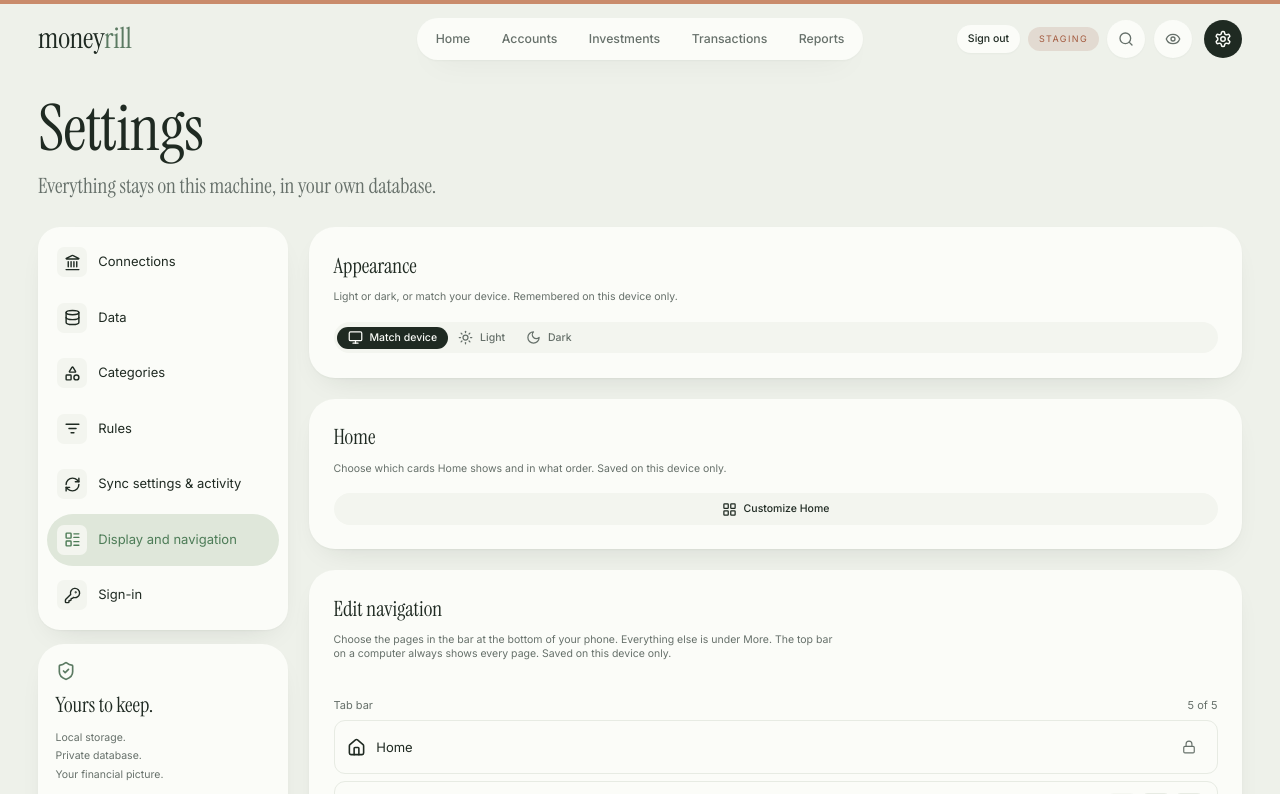
Test: Customize Home › lists every module with a switch; Spending and Accounts start off
The width and height of the screenshot is (1280, 794).
Click the button "Customize Home" at point(776, 509), box [334, 493, 1218, 525]
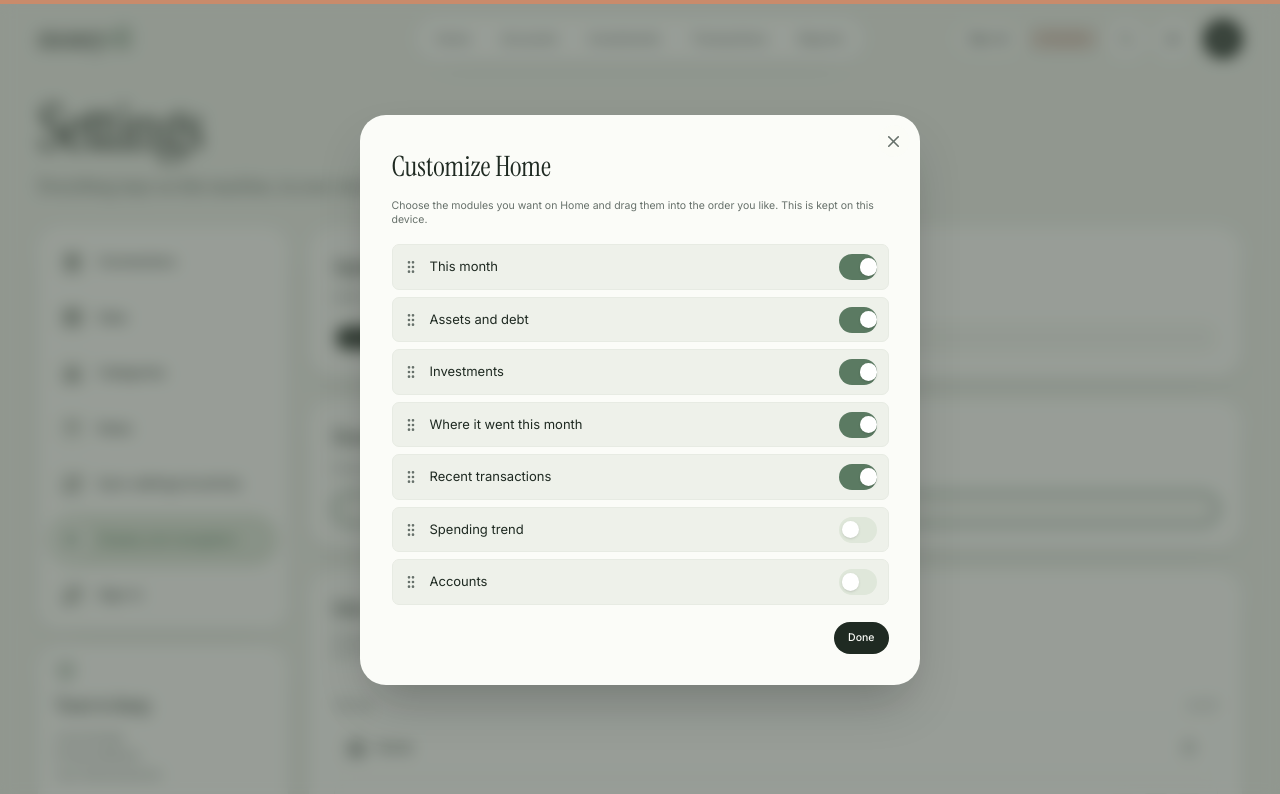
Result: the number of switches is 7
